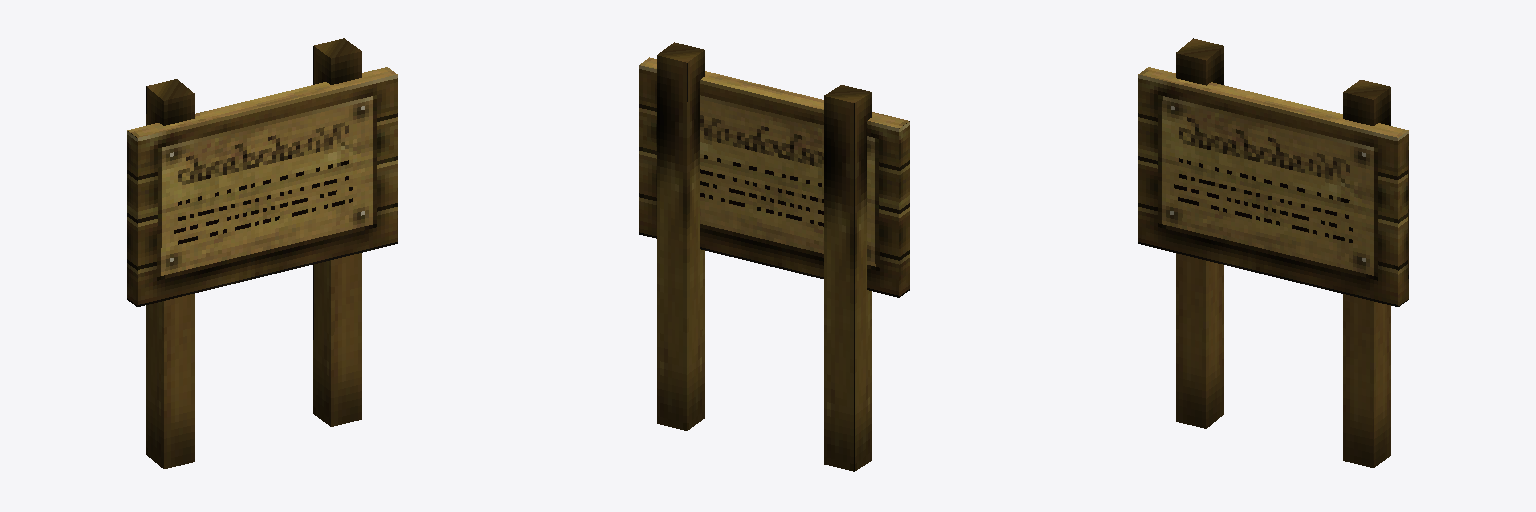
3 renders of one model, left to right at view 1: azimuth 30°, elevation 25°; view 2: azimuth 150°, elevation 25°; view 3: azimuth 330°, elevation 25°, orthographic.
Visible parts, largest first — view 1: Mesh_0; view 2: Mesh_0; view 3: Mesh_0.
Part boxes in pixels (left/top/right/bottom): Mesh_0: left=127, top=38, right=397, bottom=468; Mesh_0: left=639, top=42, right=909, bottom=471; Mesh_0: left=1138, top=38, right=1408, bottom=467.
Bounding box in the file's own units: 0.9935 × 1.35 × 0.1541.
Materials: 1 (1 with a texture image).